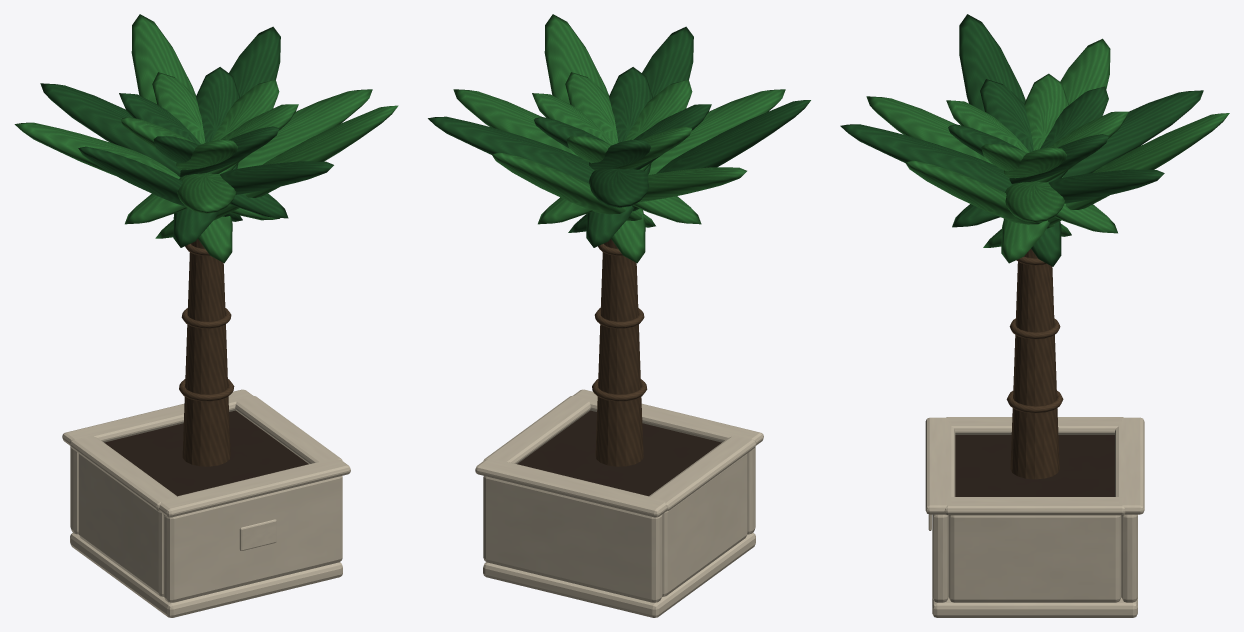
File: prop_palm_planter.glb
The picture shows the model from 3 angles, left to right: view 1: azimuth 30°, elevation 25°; view 2: azimuth 150°, elevation 25°; view 3: azimuth 270°, elevation 25°; orthographic projection.
Parts seen in each view (by area): view 1: prop_palm_planter_wall_f, prop_palm_planter_soil, prop_palm_planter_wall_l, prop_palm_planter_base, prop_palm_planter_frond_0, prop_palm_planter_frond_3, prop_palm_planter_frond_2, prop_palm_planter_coping_f, prop_palm_planter_frond_1, prop_palm_planter_frond_8, prop_palm_planter_trunk_0, prop_palm_planter_trunk_1 (+19 smaller); view 2: prop_palm_planter_wall_b, prop_palm_planter_soil, prop_palm_planter_wall_l, prop_palm_planter_base, prop_palm_planter_frond_8, prop_palm_planter_coping_b, prop_palm_planter_frond_0, prop_palm_planter_frond_6, prop_palm_planter_frond_5, prop_palm_planter_frond_1, prop_palm_planter_frond_7, prop_palm_planter_trunk_0 (+18 smaller); view 3: prop_palm_planter_wall_r, prop_palm_planter_soil, prop_palm_planter_frond_3, prop_palm_planter_frond_5, prop_palm_planter_frond_6, prop_palm_planter_frond_7, prop_palm_planter_frond_4, prop_palm_planter_base, prop_palm_planter_coping_r, prop_palm_planter_frond_2, prop_palm_planter_trunk_0, prop_palm_planter_trunk_1 (+18 smaller).
Part boxes in pixels (x1,y1,x2,y2): prop_palm_planter_wall_f: [163, 476, 342, 602]; prop_palm_planter_soil: [104, 410, 308, 496]; prop_palm_planter_wall_l: [78, 454, 163, 596]; prop_palm_planter_base: [70, 533, 342, 617]; prop_palm_planter_frond_0: [125, 89, 372, 224]; prop_palm_planter_frond_3: [40, 83, 288, 218]; prop_palm_planter_frond_2: [131, 14, 232, 263]; prop_palm_planter_coping_f: [159, 458, 350, 517]; prop_palm_planter_frond_1: [173, 26, 280, 247]; prop_palm_planter_frond_8: [155, 105, 398, 238]; prop_palm_planter_trunk_0: [182, 396, 230, 466]; prop_palm_planter_trunk_1: [185, 324, 227, 394]; prop_palm_planter_wall_b: [483, 476, 662, 602]; prop_palm_planter_soil: [517, 410, 721, 496]; prop_palm_planter_wall_l: [662, 453, 747, 596]; prop_palm_planter_base: [483, 533, 755, 617]; prop_palm_planter_frond_8: [544, 14, 645, 263]; prop_palm_planter_coping_b: [475, 458, 666, 517]; prop_palm_planter_frond_0: [453, 89, 701, 224]; prop_palm_planter_frond_6: [538, 89, 785, 224]; prop_palm_planter_frond_5: [568, 100, 810, 232]; prop_palm_planter_frond_1: [428, 116, 594, 183]; prop_palm_planter_frond_7: [586, 26, 693, 247]; prop_palm_planter_trunk_0: [595, 396, 643, 466]; prop_palm_planter_wall_r: [948, 515, 1121, 602]; prop_palm_planter_soil: [955, 435, 1114, 496]; prop_palm_planter_frond_3: [952, 90, 1203, 227]; prop_palm_planter_frond_5: [959, 14, 1061, 266]; prop_palm_planter_frond_6: [866, 96, 1117, 233]; prop_palm_planter_frond_7: [840, 124, 1012, 192]; prop_palm_planter_frond_4: [1001, 38, 1110, 263]; prop_palm_planter_base: [932, 597, 1137, 617]; prop_palm_planter_coping_r: [944, 497, 1125, 515]; prop_palm_planter_frond_2: [983, 113, 1229, 247]; prop_palm_planter_trunk_0: [1010, 408, 1059, 479]; prop_palm_planter_trunk_1: [1013, 335, 1056, 406].
Bounding box in the file's own units: 2.32 × 3.24 × 2.37.
6 materials, 6 textured.
